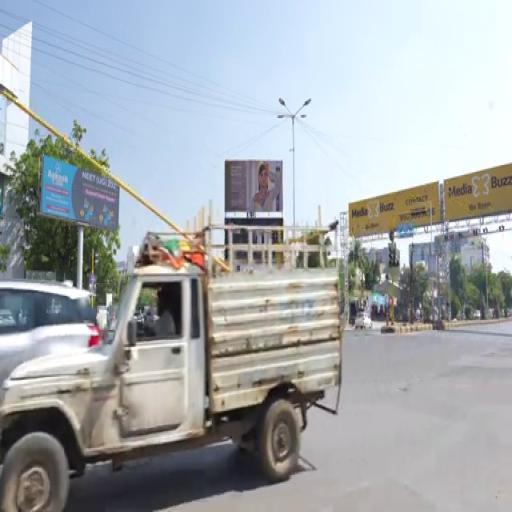Car: (0, 281, 100, 381), (355, 312, 371, 328)
